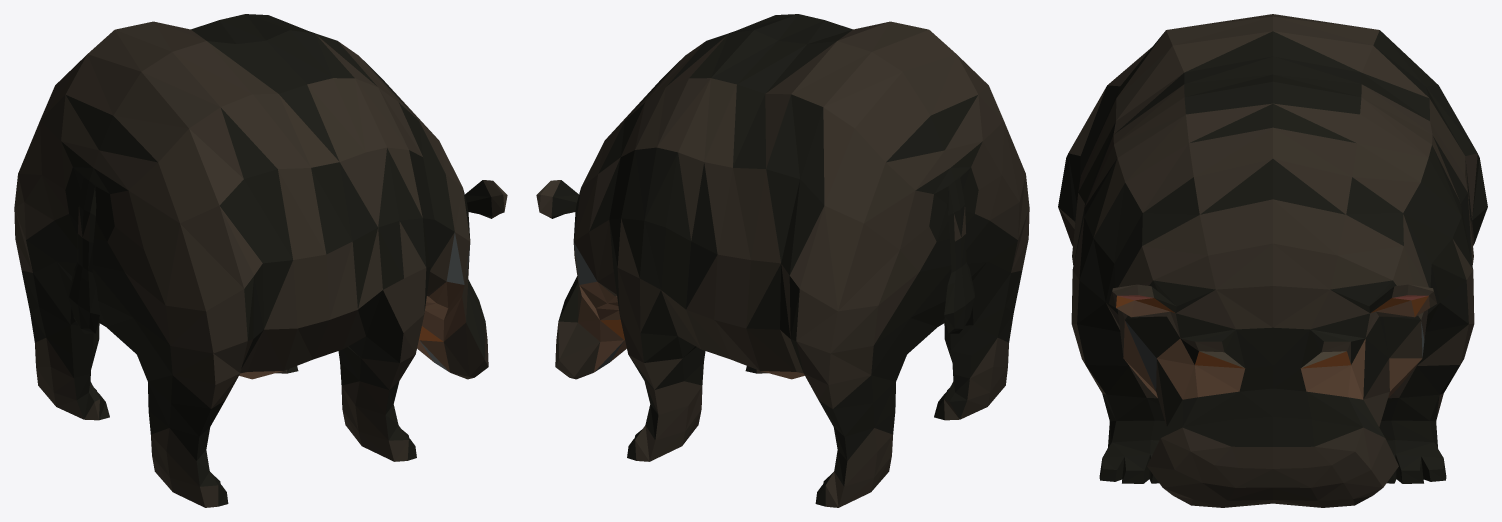
Rendered from hippo.glb.
3 views of the same model, side by side, from view 1: azimuth 30°, elevation 25°; view 2: azimuth 150°, elevation 25°; view 3: azimuth 270°, elevation 25° (orthographic).
Bounding box in the file's own units: 1 × 1 × 1.
